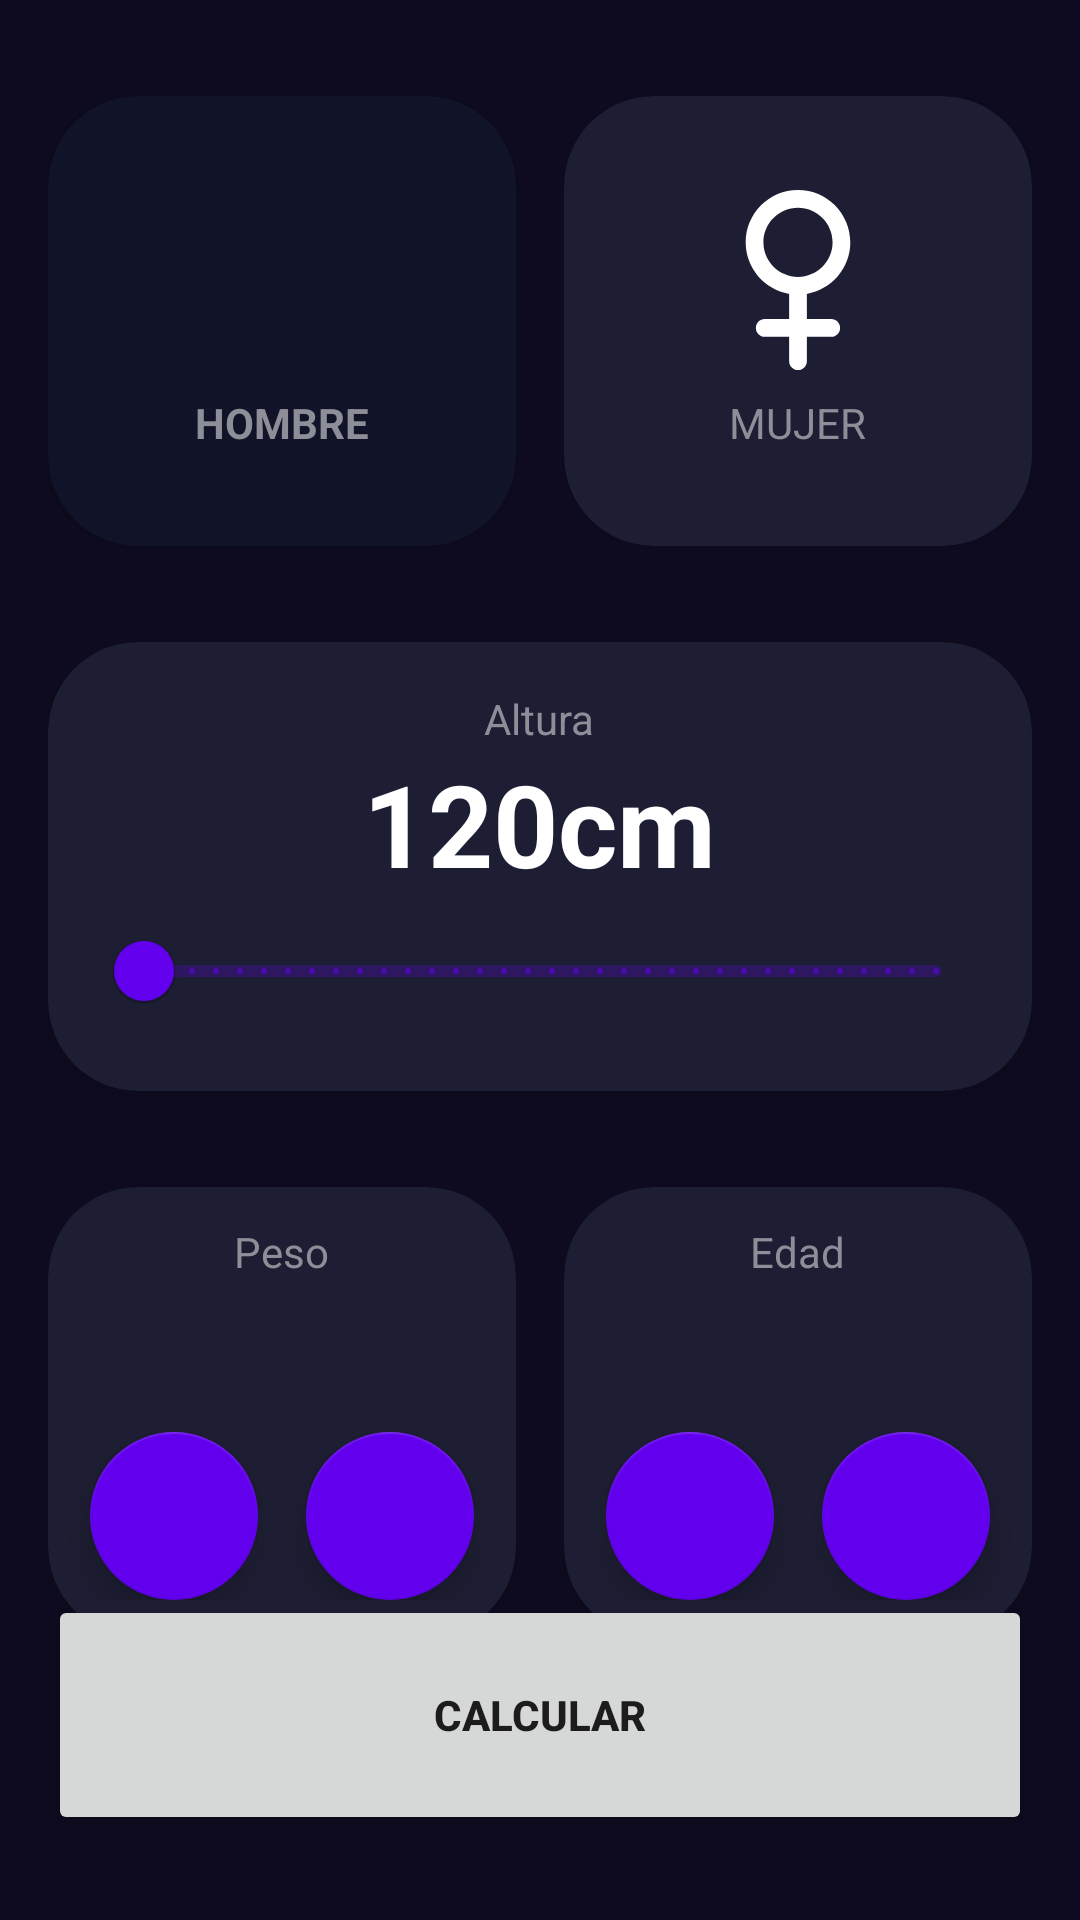

Icons on this 1080*1920 Android screen, each with its box as [left=x1, top=y1, right=x2, bottom=y2]:
female symbol: [left=745, top=190, right=851, bottom=370]
